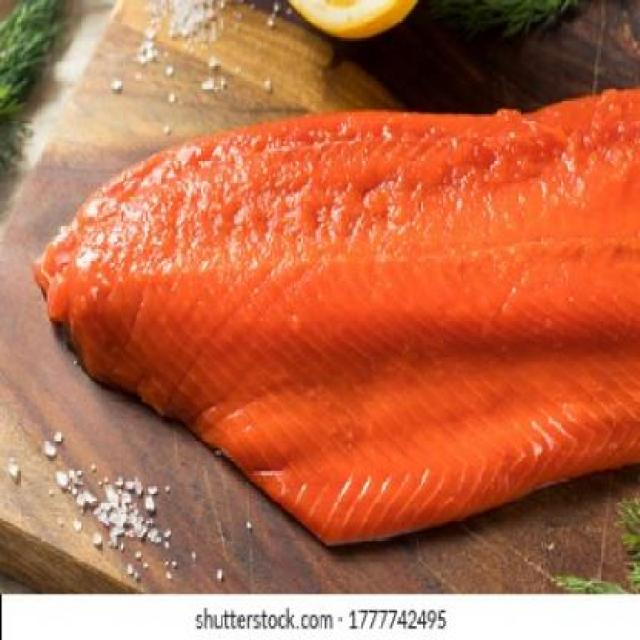salmon: (38, 99, 640, 538)
